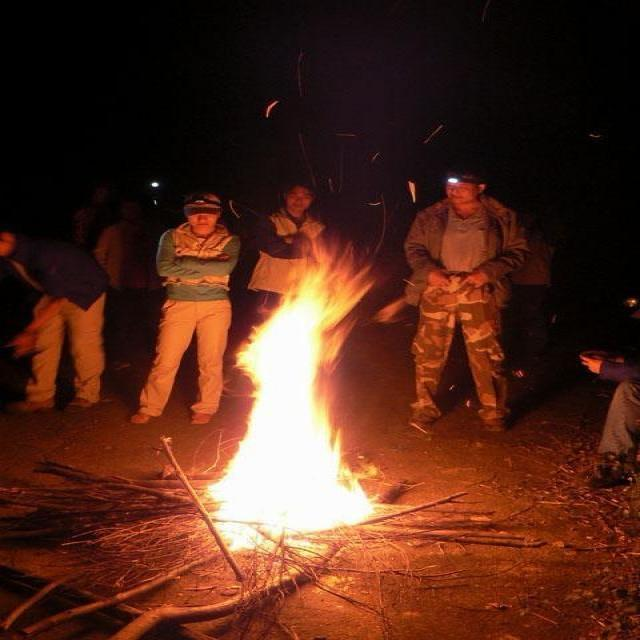Fire: (202, 232, 378, 559)
